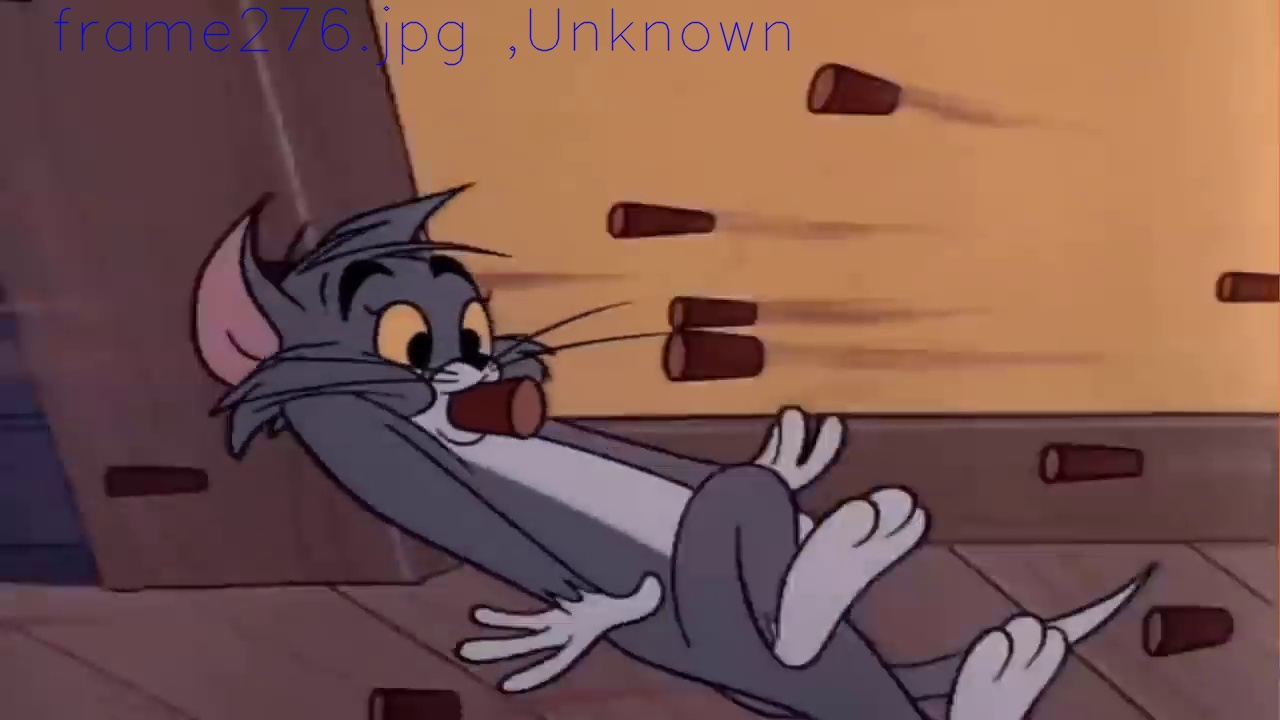surprised: (335, 249, 505, 444)
